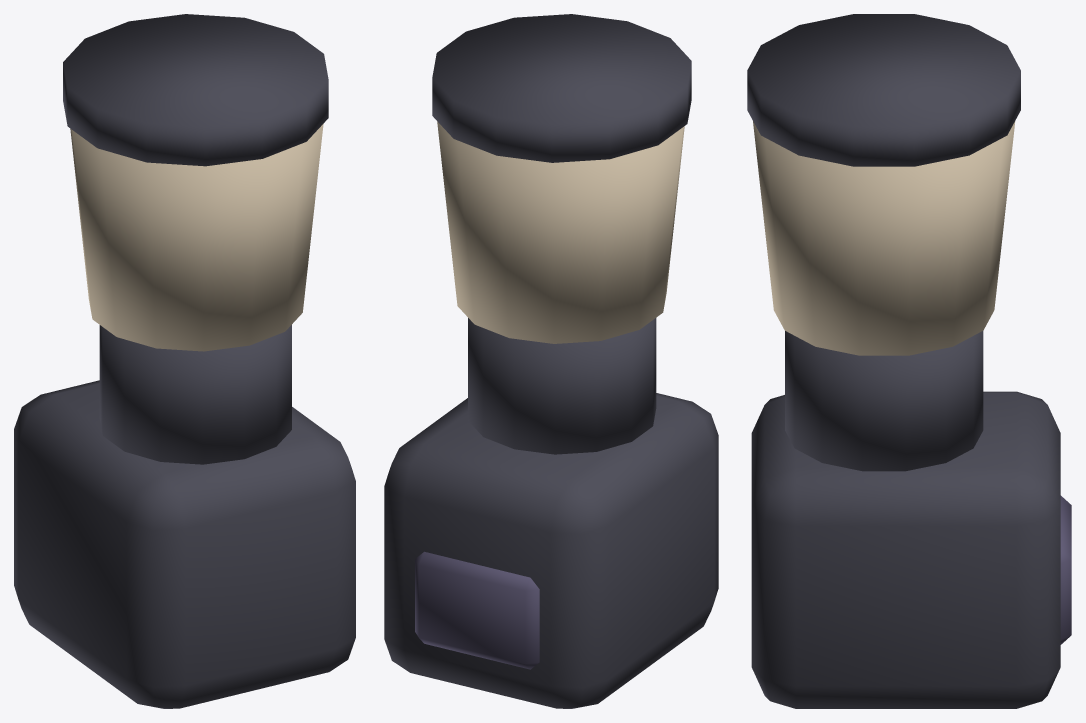
Rendered from senior_coffee_grinder.glb.
3 renders of one model, left to right at view 1: azimuth 30°, elevation 25°; view 2: azimuth 150°, elevation 25°; view 3: azimuth 270°, elevation 25°, orthographic. The views are drawn at different scales.
Parts seen in each view (by area): view 1: senior_coffee_grinder__DarkGrey, senior_coffee_grinder__Glass; view 2: senior_coffee_grinder__DarkGrey, senior_coffee_grinder__Glass, senior_coffee_grinder__SlateLavDark; view 3: senior_coffee_grinder__DarkGrey, senior_coffee_grinder__Glass, senior_coffee_grinder__SlateLavDark.
Part boxes in pixels (box(x1,y1,x2,y2)): senior_coffee_grinder__DarkGrey: box(14, 14, 355, 708); senior_coffee_grinder__Glass: box(70, 124, 323, 351); senior_coffee_grinder__DarkGrey: box(384, 14, 718, 708); senior_coffee_grinder__Glass: box(437, 121, 684, 343); senior_coffee_grinder__SlateLavDark: box(415, 551, 539, 669); senior_coffee_grinder__DarkGrey: box(747, 14, 1060, 708); senior_coffee_grinder__Glass: box(753, 121, 1015, 355); senior_coffee_grinder__SlateLavDark: box(1060, 495, 1071, 644).
Size of the model in its own units: 0.1209 by 0.3 by 0.147.
